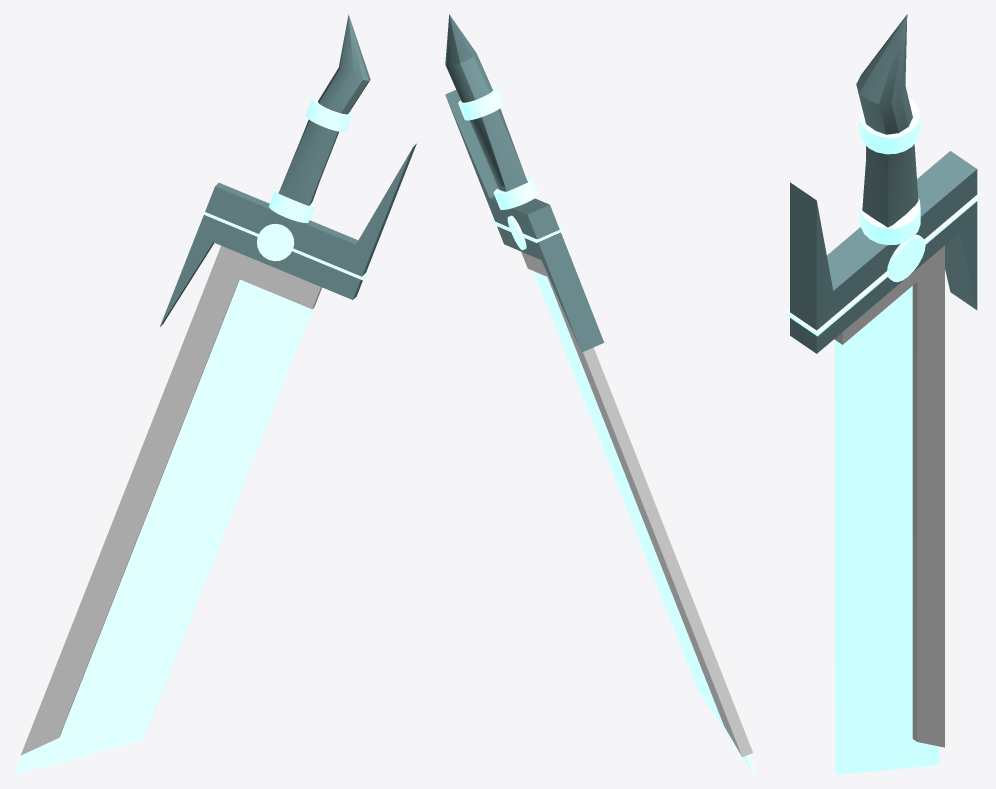
Rendered from CyberDeath_GreatSword 1.fbx.
The picture shows the model from 3 angles, left to right: view 1: azimuth 30°, elevation 25°; view 2: azimuth 150°, elevation 25°; view 3: azimuth 270°, elevation 25°; orthographic projection. The views are drawn at different scales.
Parts seen in each view (by area): view 1: pCube5; view 2: pCube5; view 3: pCube5.
Boxes of the visible parts, x1=… form: pCube5: x1=14, y1=14, x2=416, y2=774; pCube5: x1=445, y1=14, x2=756, y2=774; pCube5: x1=785, y1=14, x2=981, y2=774.
Size of the model in its own units: 7.97 by 14.58 by 2.67.
